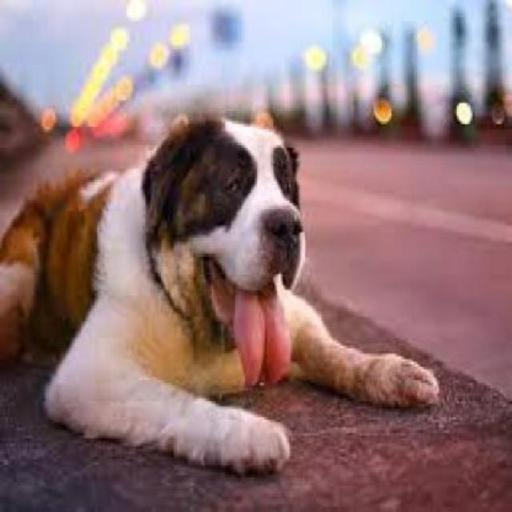Dog: (14, 114, 442, 474)
